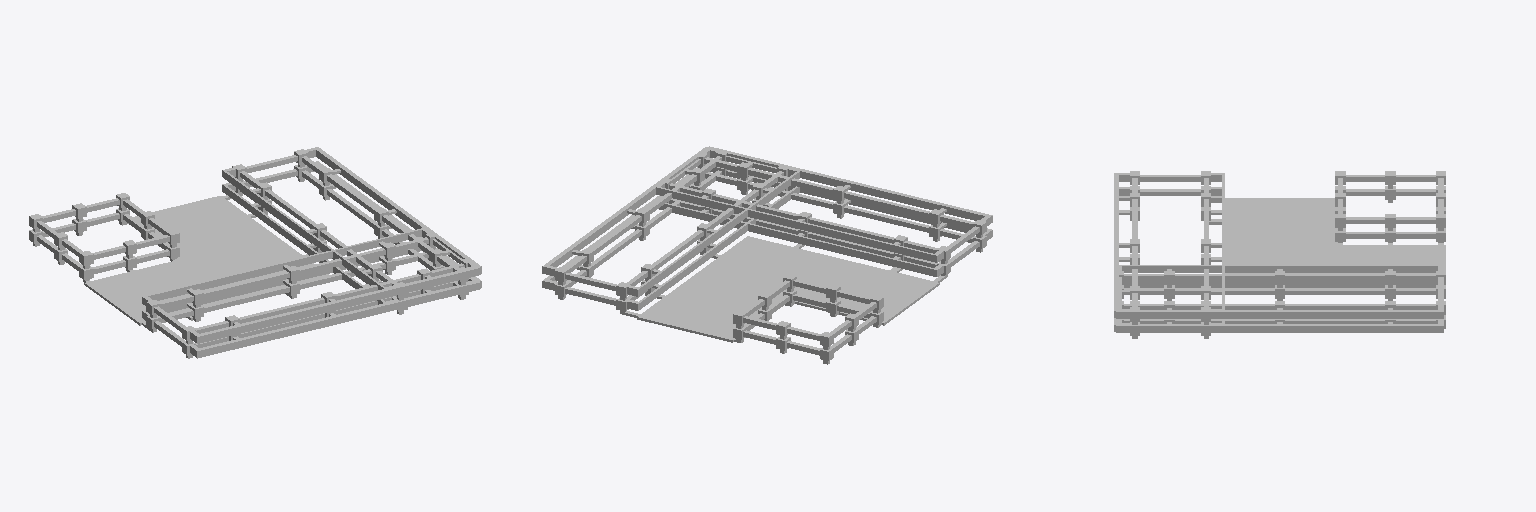
The model's file is corner.obj.
The picture shows the model from 3 angles: view 1: azimuth 30°, elevation 25°; view 2: azimuth 150°, elevation 25°; view 3: azimuth 270°, elevation 25°; orthographic projection.
Bounding box in the file's own units: 126 × 12 × 126.